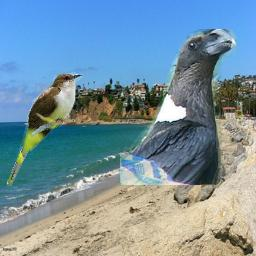Crow: (120, 29, 237, 185)
Cuckoo: (6, 72, 83, 186)
